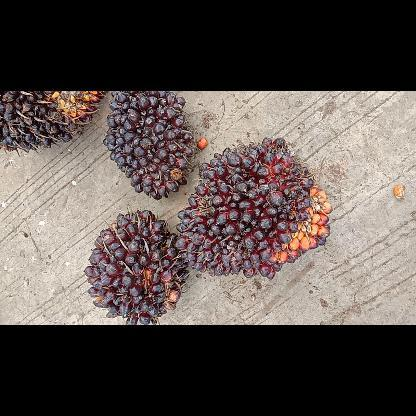TBS mentah: (171, 132, 335, 284), (81, 206, 191, 324), (102, 91, 198, 201)
